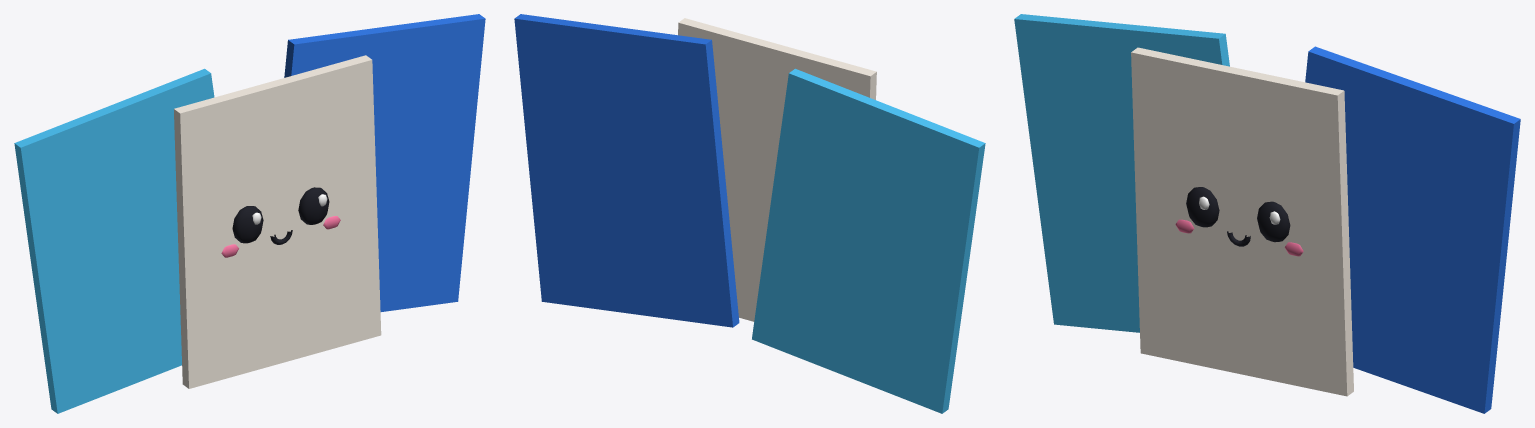
Rendered from 03-3-css-effects.obj.
3 views of the same model, side by side, from view 1: azimuth 30°, elevation 25°; view 2: azimuth 150°, elevation 25°; view 3: azimuth 330°, elevation 25° (orthographic). The views are drawn at different scales.
Visible parts, largest first — view 1: flipCard, fadeCard, clipCard, eye; view 2: clipCard, fadeCard, flipCard; view 3: flipCard, clipCard, fadeCard, eye.
Boxes of the visible parts, x1=… form: flipCard: x1=174, y1=55, x2=381, y2=388; fadeCard: x1=14, y1=68, x2=214, y2=413; clipCard: x1=284, y1=14, x2=485, y2=311; eye: x1=232, y1=187, x2=329, y2=243; clipCard: x1=514, y1=14, x2=739, y2=327; fadeCard: x1=752, y1=68, x2=985, y2=413; flipCard: x1=678, y1=18, x2=876, y2=321; flipCard: x1=1131, y1=47, x2=1353, y2=396; clipCard: x1=1305, y1=46, x2=1520, y2=413; fadeCard: x1=1014, y1=14, x2=1229, y2=332; eye: x1=1186, y1=187, x2=1290, y2=242.
Size of the model in its own units: 2.54 by 1.63 by 0.3538.
